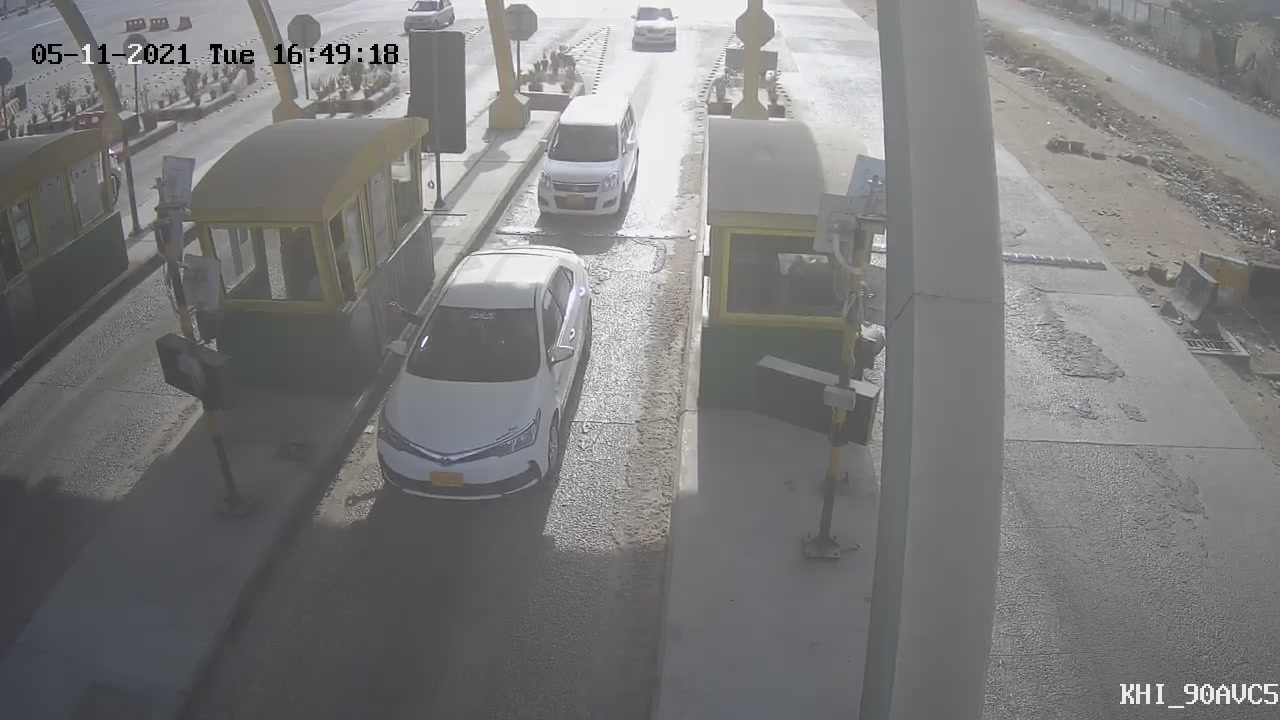F1: (353, 229, 609, 526), (522, 81, 656, 239)
